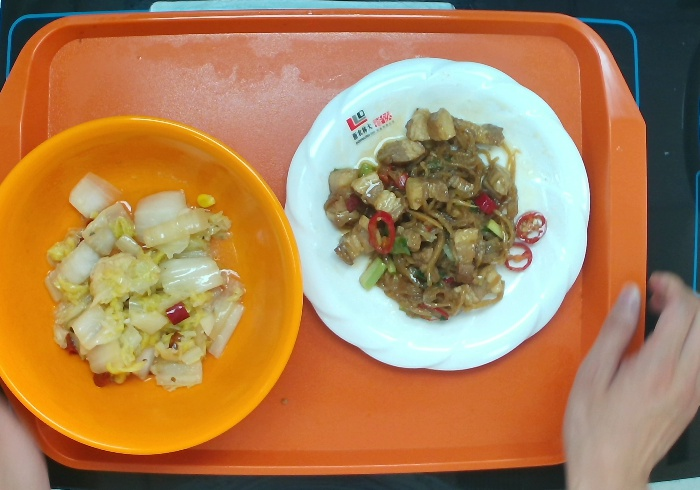ZNLD-Hua_Bian_Wan: (297, 56, 593, 373)
ZNLD-Ju_Se_Tang_Wan: (5, 116, 302, 456)
